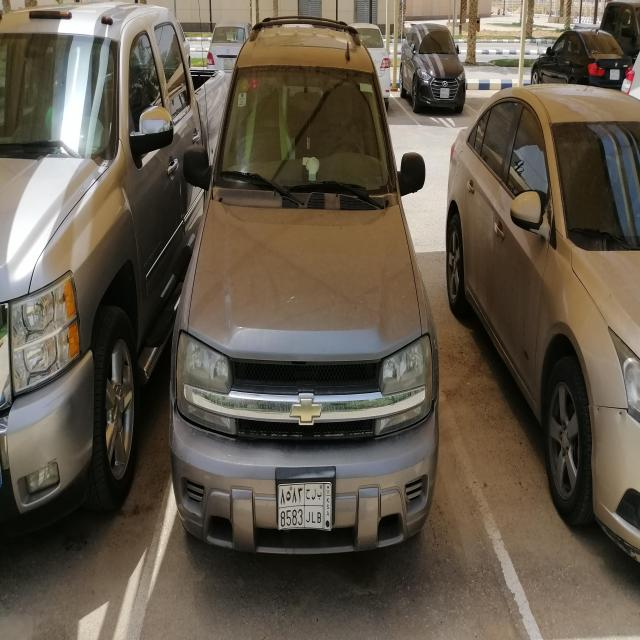license_plate: (278, 479, 332, 534), (610, 70, 620, 80), (224, 60, 234, 70), (440, 88, 449, 98)
